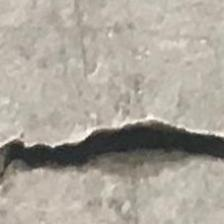Crack: (0, 101, 224, 207)
